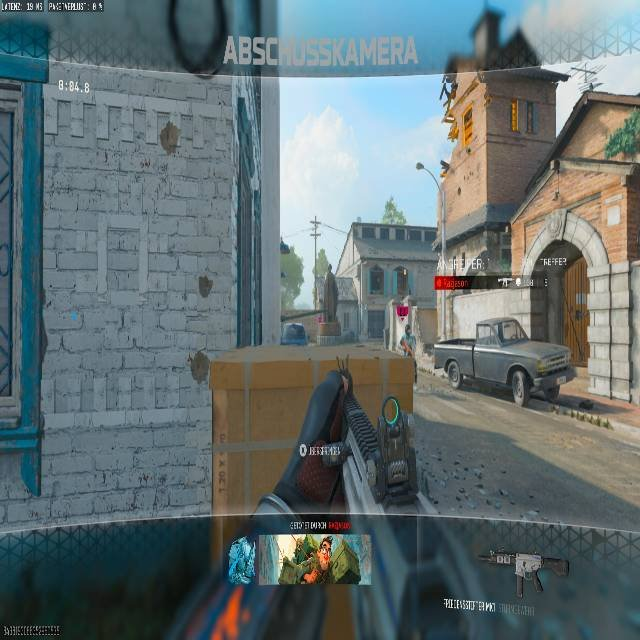player: (398, 324, 414, 356)
